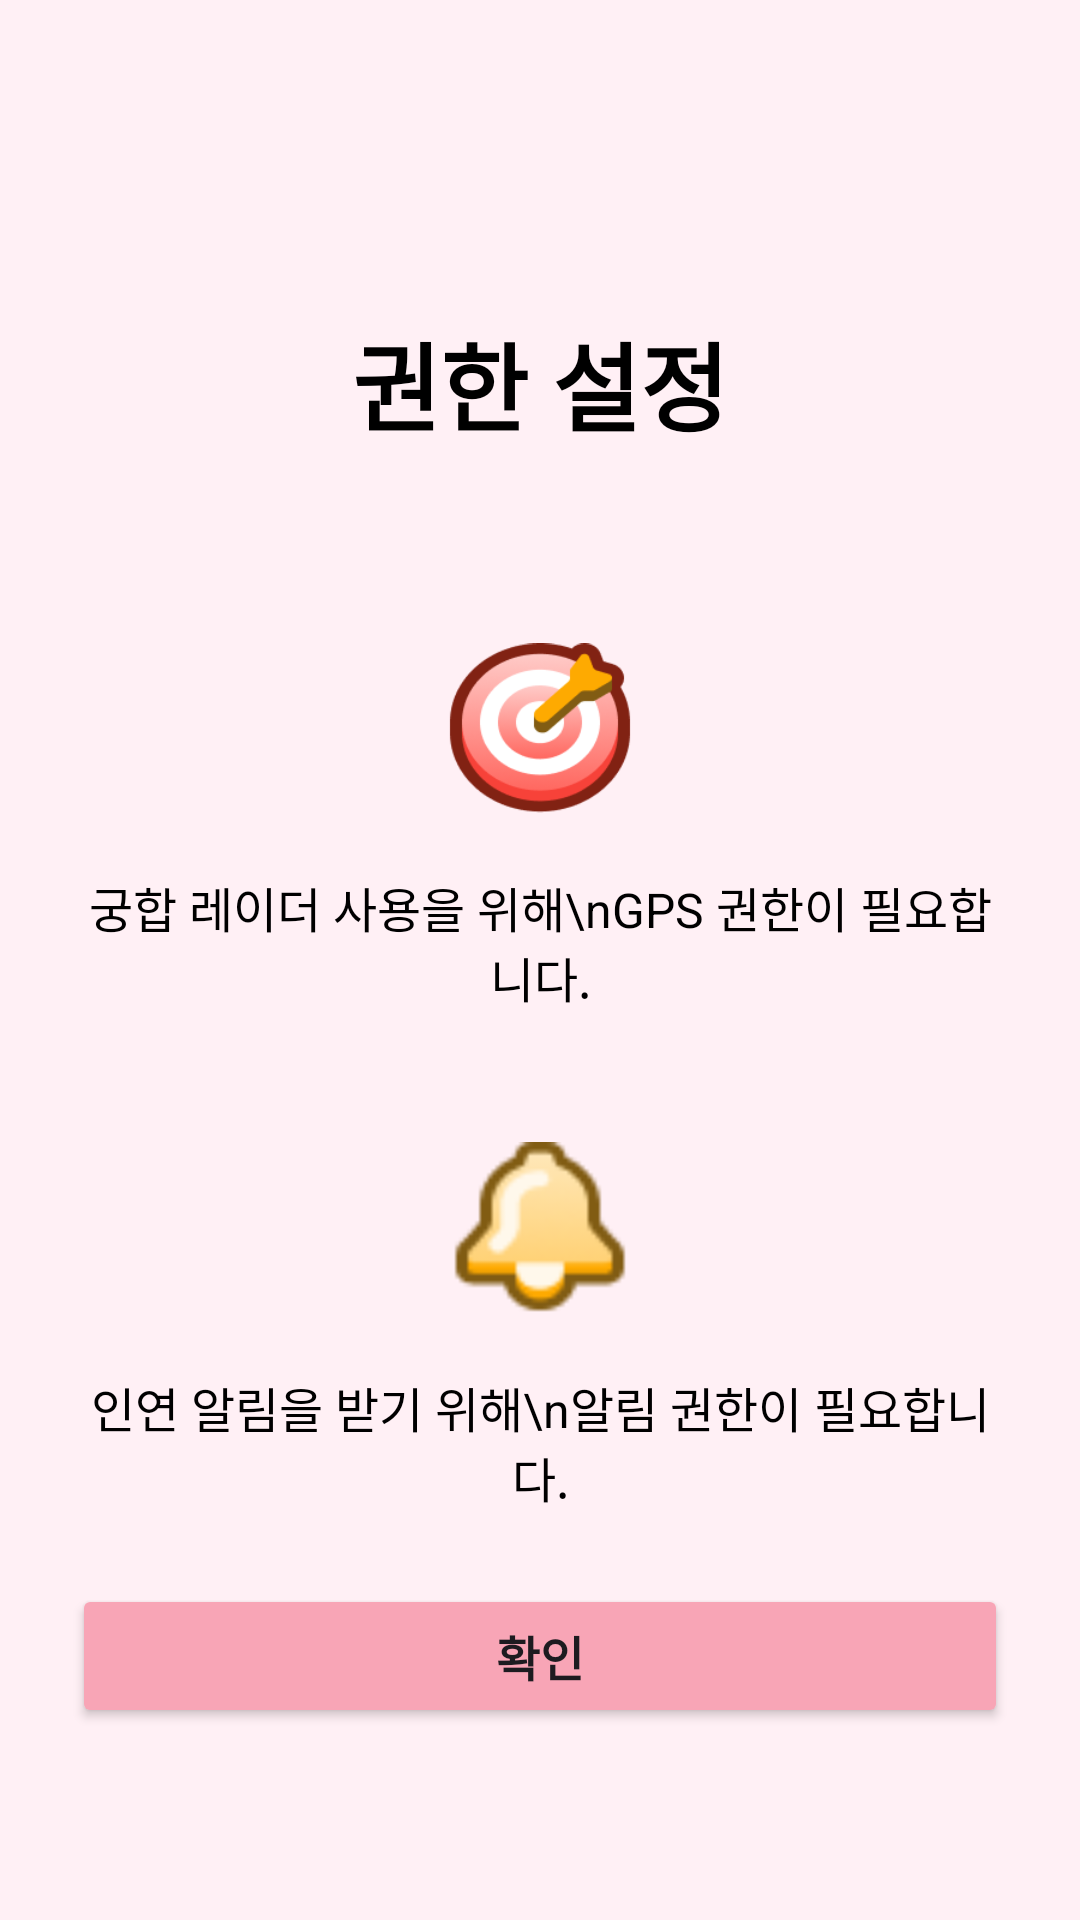

Screen size 1080*1920. Icon name, then its box in pixels as (x1, y1, x2, y2):
bell: (454, 1142, 626, 1312)
target: (450, 643, 630, 813)
